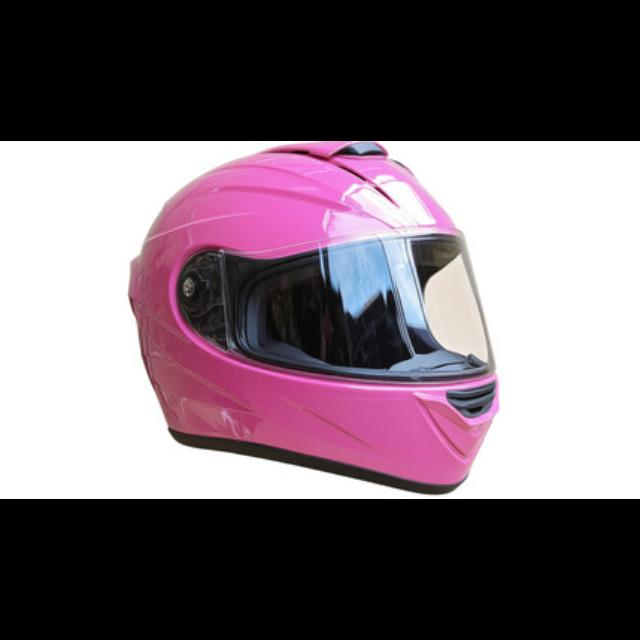motorcycle-helmets: (120, 154, 516, 496)
